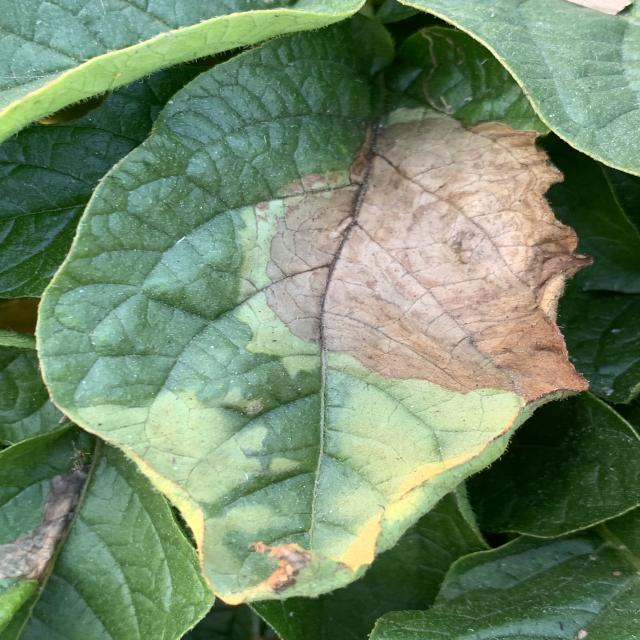lateblight: (318, 116, 588, 401), (235, 140, 373, 359)
